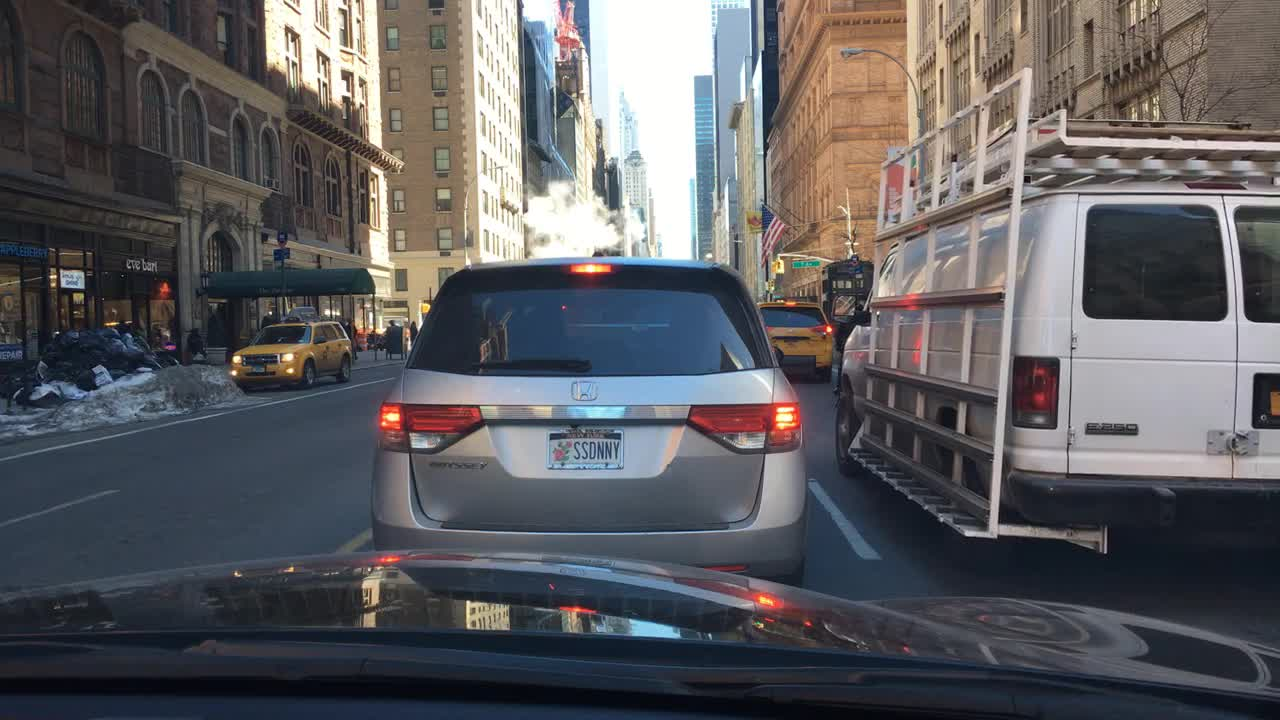car: (831, 65, 1279, 559), (367, 253, 811, 588), (228, 307, 357, 393), (756, 301, 836, 386)
person: (343, 317, 361, 361), (185, 329, 207, 361), (407, 319, 418, 347)
traffic light: (767, 260, 779, 277), (776, 258, 786, 277)
traffic sign: (271, 247, 292, 262), (791, 261, 821, 270), (275, 227, 288, 247), (853, 266, 866, 282), (420, 303, 432, 317), (850, 253, 860, 266)
